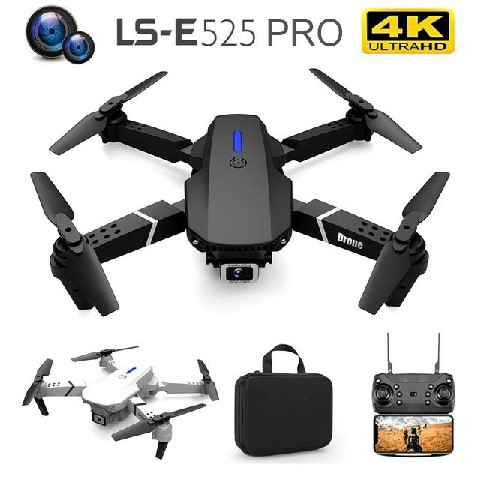maybay_khongnguoilai: (36, 71, 447, 309)
